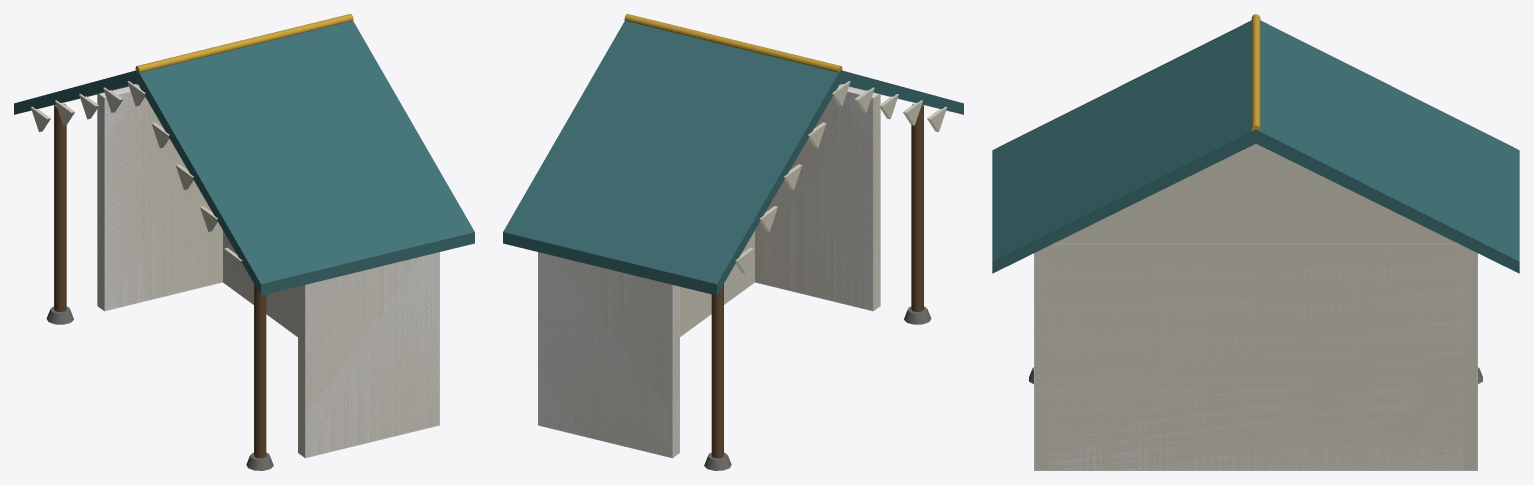
Rendered from stop-11.glb.
The picture shows the model from 3 angles, left to right: view 1: azimuth 30°, elevation 25°; view 2: azimuth 150°, elevation 25°; view 3: azimuth 270°, elevation 25°; orthographic projection. The views are drawn at different scales.
Visible parts, largest first — view 1: 03_paint0, 00_#d8d4c4, solid.002, solid.003, 01_#6a5038, 04_#c9a13a, 02_#6e6e6a; view 2: 03_paint0, 00_#d8d4c4, solid.003, solid.002, 01_#6a5038, 04_#c9a13a, 02_#6e6e6a; view 3: 00_#d8d4c4, 03_paint0, solid, 04_#c9a13a.
Boxes of the visible parts, left/top/right/bottom form: 03_paint0: left=14, top=21, right=474, bottom=295; 00_#d8d4c4: left=30, top=81, right=438, bottom=456; solid.002: left=298, top=252, right=439, bottom=458; solid.003: left=97, top=87, right=222, bottom=311; 01_#6a5038: left=54, top=103, right=266, bottom=458; 04_#c9a13a: left=135, top=14, right=353, bottom=73; 02_#6e6e6a: left=46, top=306, right=273, bottom=470; 03_paint0: left=503, top=21, right=963, bottom=295; 00_#d8d4c4: left=539, top=81, right=947, bottom=456; solid.003: left=538, top=252, right=679, bottom=458; solid.002: left=755, top=84, right=880, bottom=311; 01_#6a5038: left=711, top=103, right=923, bottom=458; 04_#c9a13a: left=624, top=14, right=842, bottom=72; 02_#6e6e6a: left=704, top=306, right=931, bottom=470; 00_#d8d4c4: left=1035, top=144, right=1476, bottom=469; 03_paint0: left=992, top=20, right=1519, bottom=273; solid: left=1043, top=243, right=1468, bottom=470; 04_#c9a13a: left=1251, top=14, right=1260, bottom=130.
Size of the model in its own units: 2.37 by 3.48 by 4.7.
